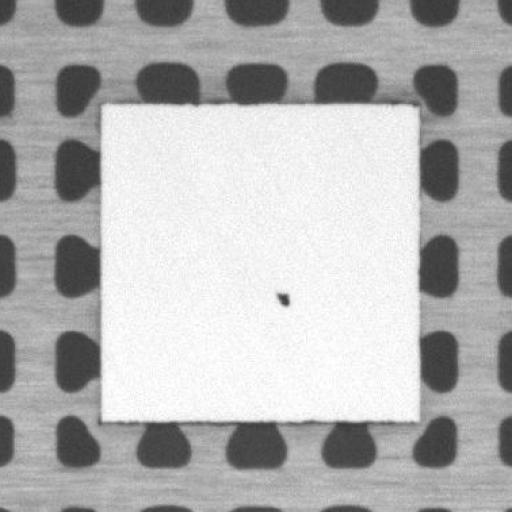DIE_INK: (272, 285, 291, 308)
